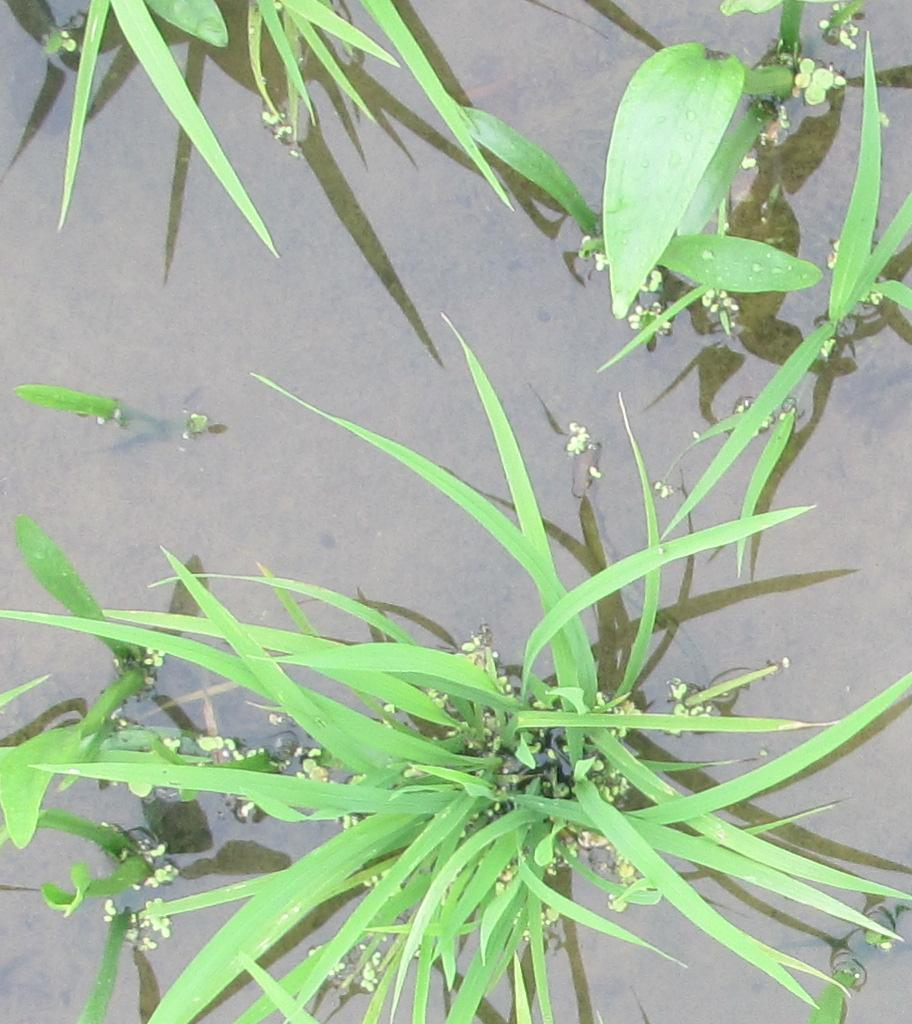Weed: (596, 39, 762, 321)
